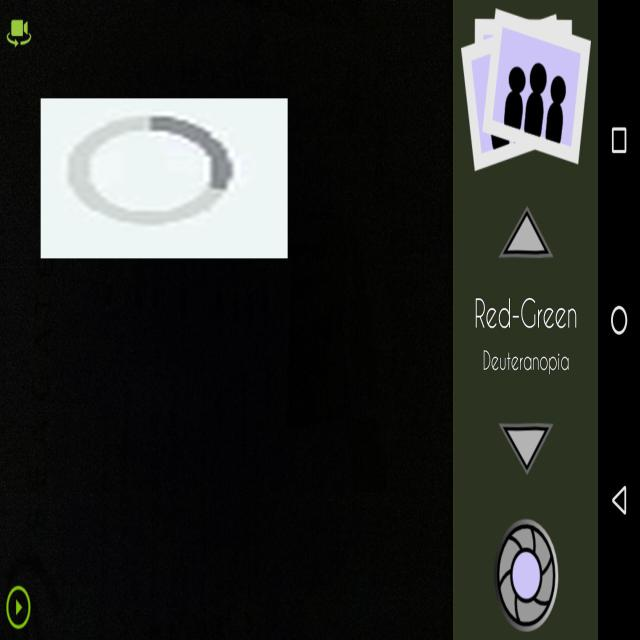misdirection: (40, 99, 288, 258)
